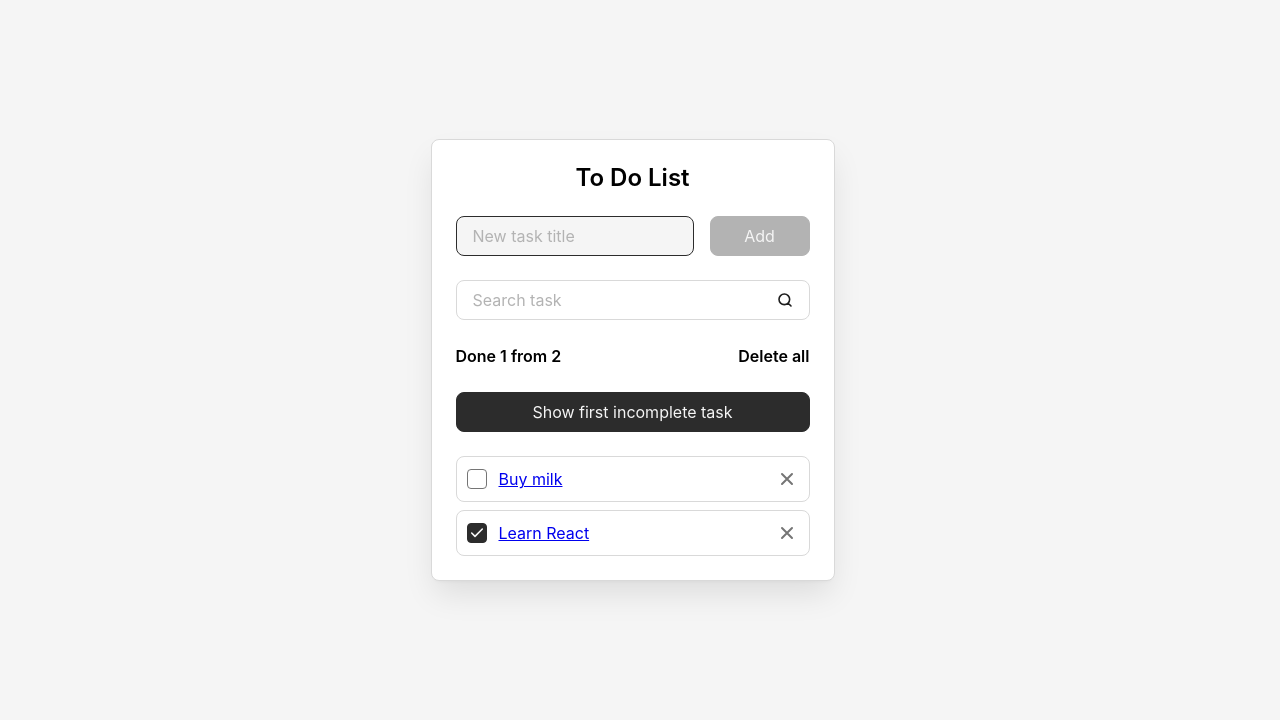
it: Todo › deletes all tasks when the delete all tasks button is clicked
Step 1. Click the button "Delete all" → (774,356), box [738, 344, 810, 368]
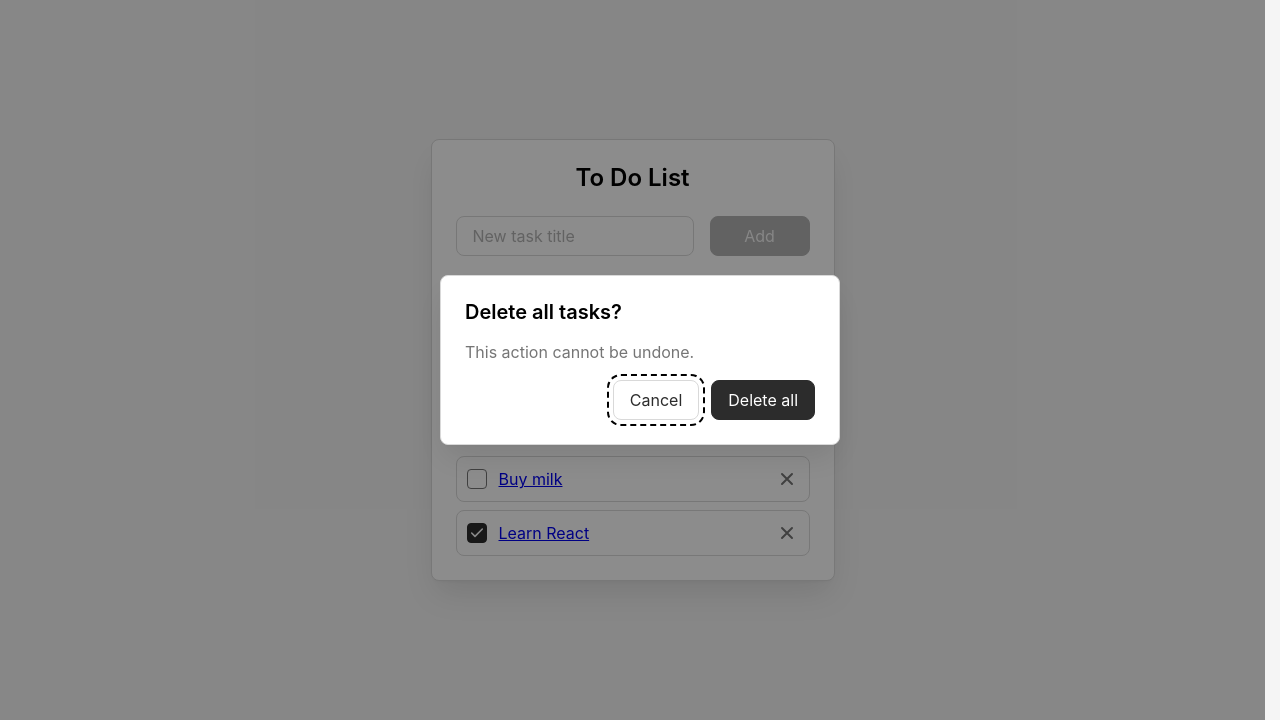
Step 2. Click the button "Delete all" → (763,400), box [711, 380, 815, 420]
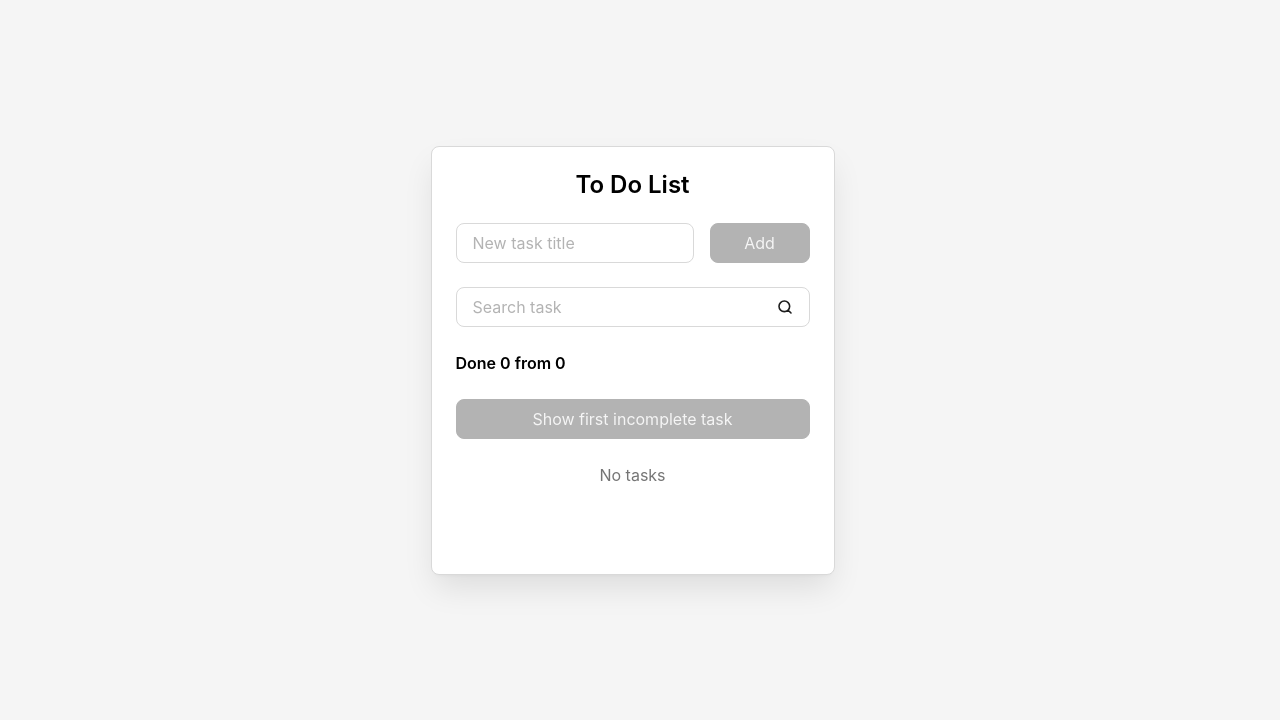
expect the text "No tasks" is shown: met, box [599, 465, 666, 485]
expect the button "Show first incomplete task" is disabled: met, box [456, 399, 810, 439]
